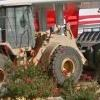Tractor: (21, 17, 100, 91)
